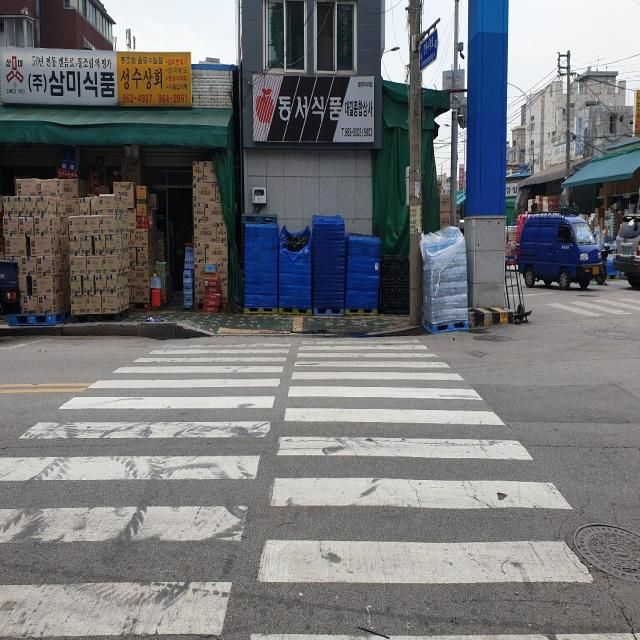횡단보도: (0, 335, 640, 640), (560, 300, 636, 316)
